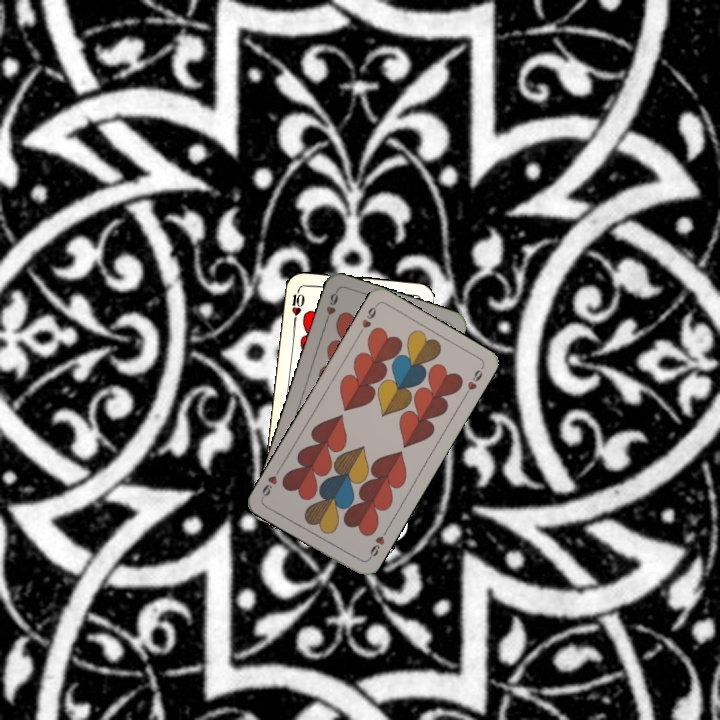H10: (287, 284, 307, 325)
H9: (364, 526, 390, 563), (355, 300, 380, 338), (321, 287, 341, 327)
